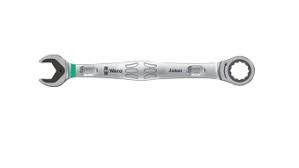wrench: (36, 51, 255, 88)
